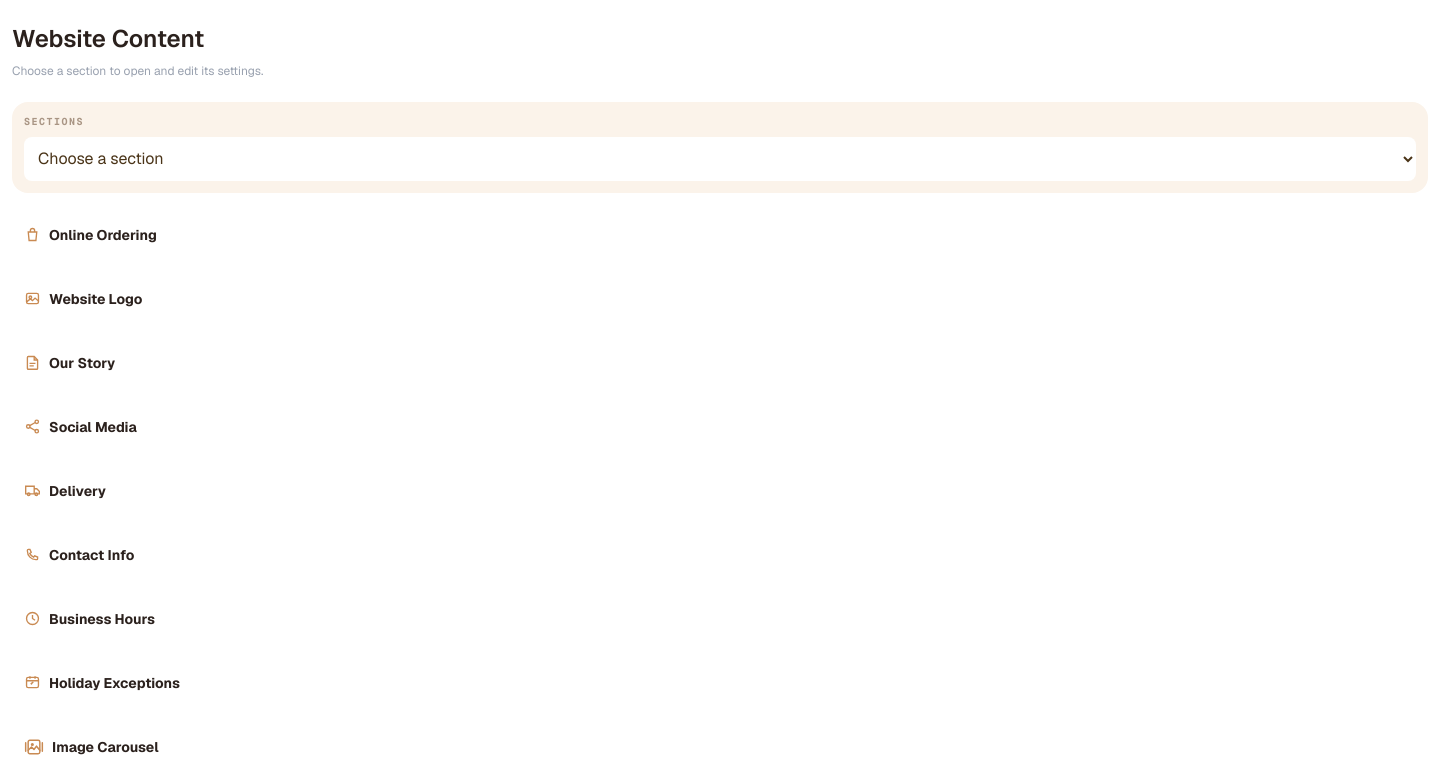
confirmed website content deletion › prompts before requesting deletion and allows cancellation
The width and height of the screenshot is (1440, 783).
Select "Social Media" in the dropdown labelled "Sections". click: (720, 158)
box: [24,136,1416,180]
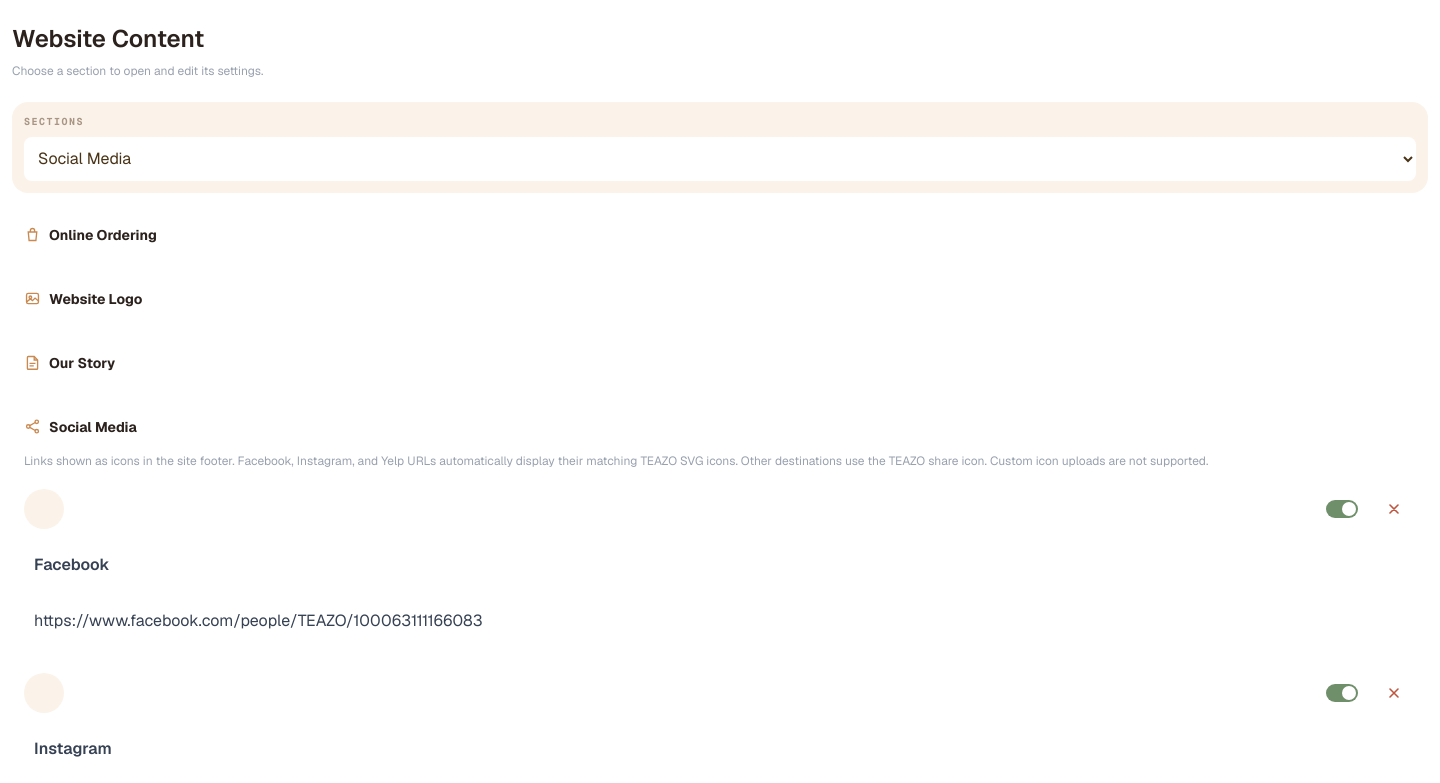
Click the button named "Remove Facebook". click: (1394, 508)
box: [1372,486,1416,530]
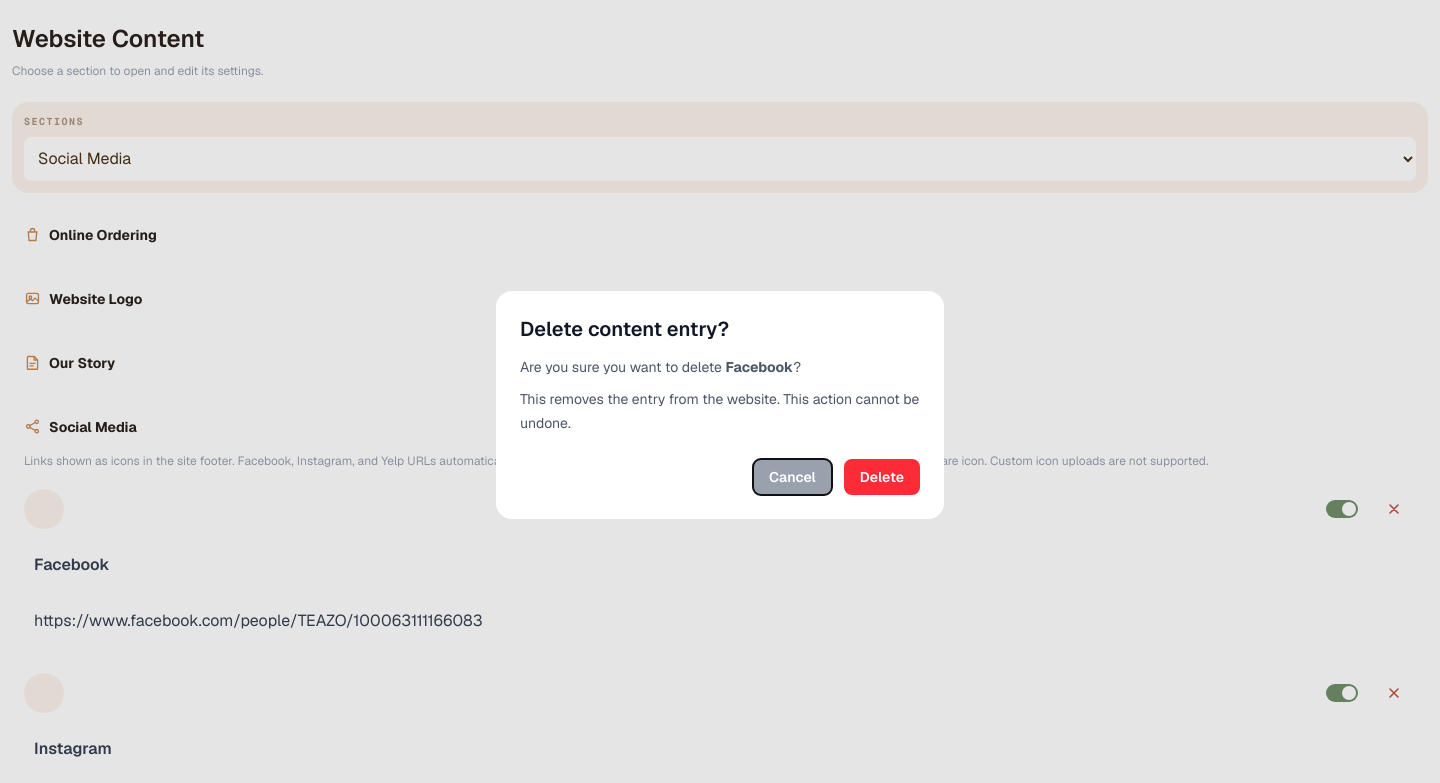
expect the dialog "Delete content entry?" is shown: met, box [496,291,944,519]
Click the button "Cancel". click: (792, 477)
box: [753,459,832,495]
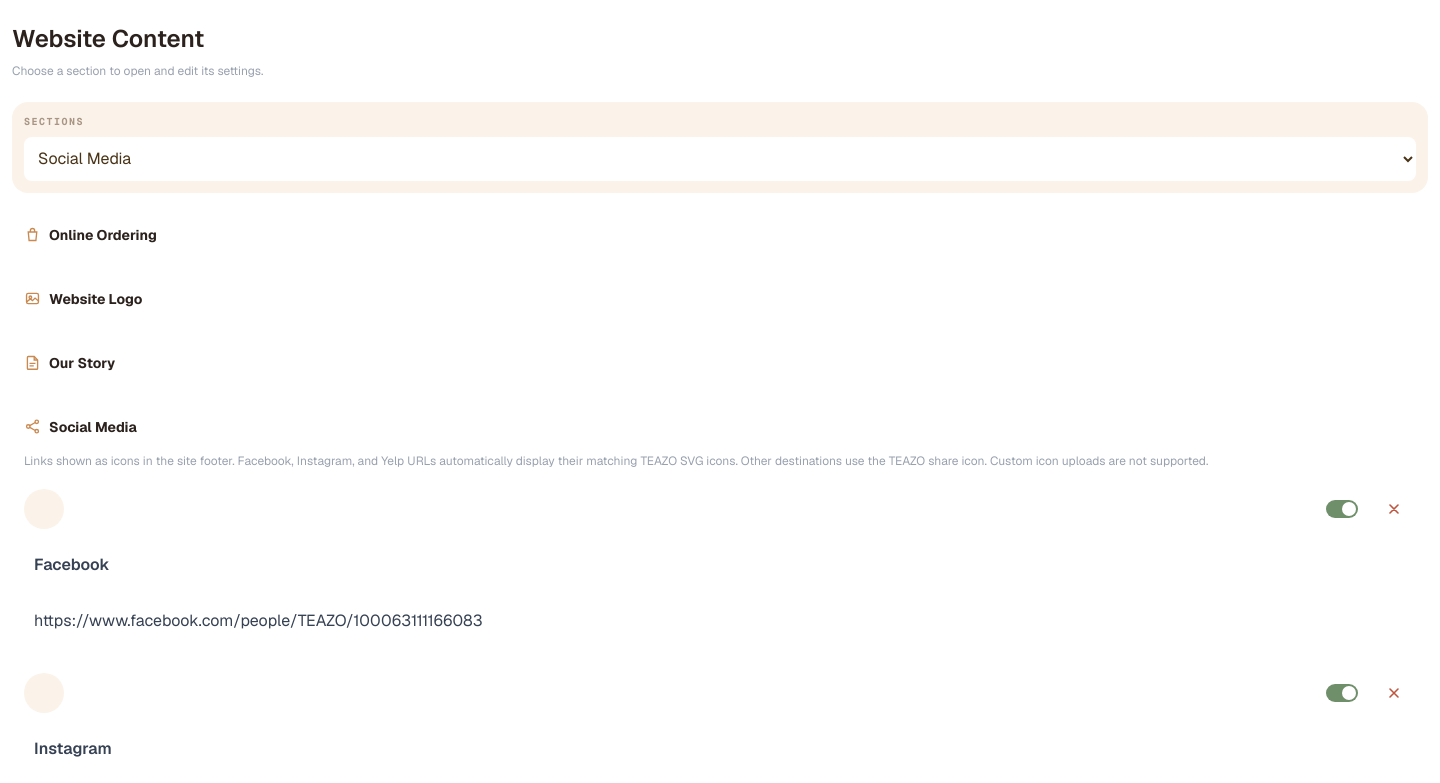
expect the button named "Remove Facebook" is shown: met, box [1372,486,1416,530]
expect the dialog is gone: met
